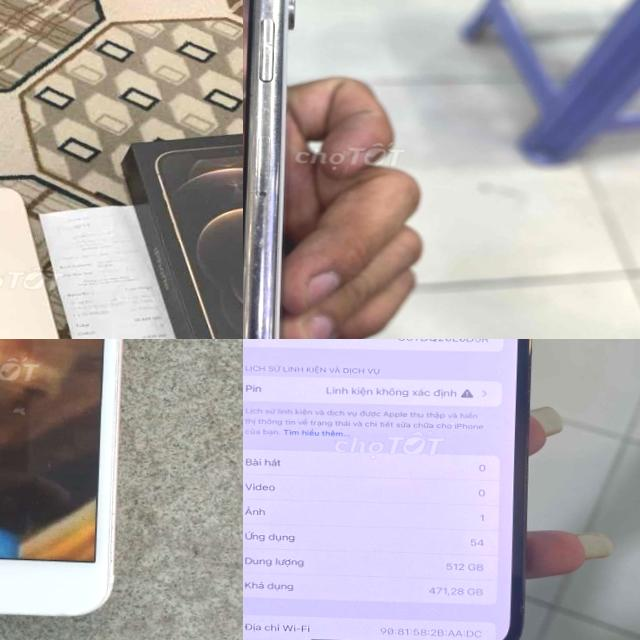scratch: (243, 0, 294, 339)
